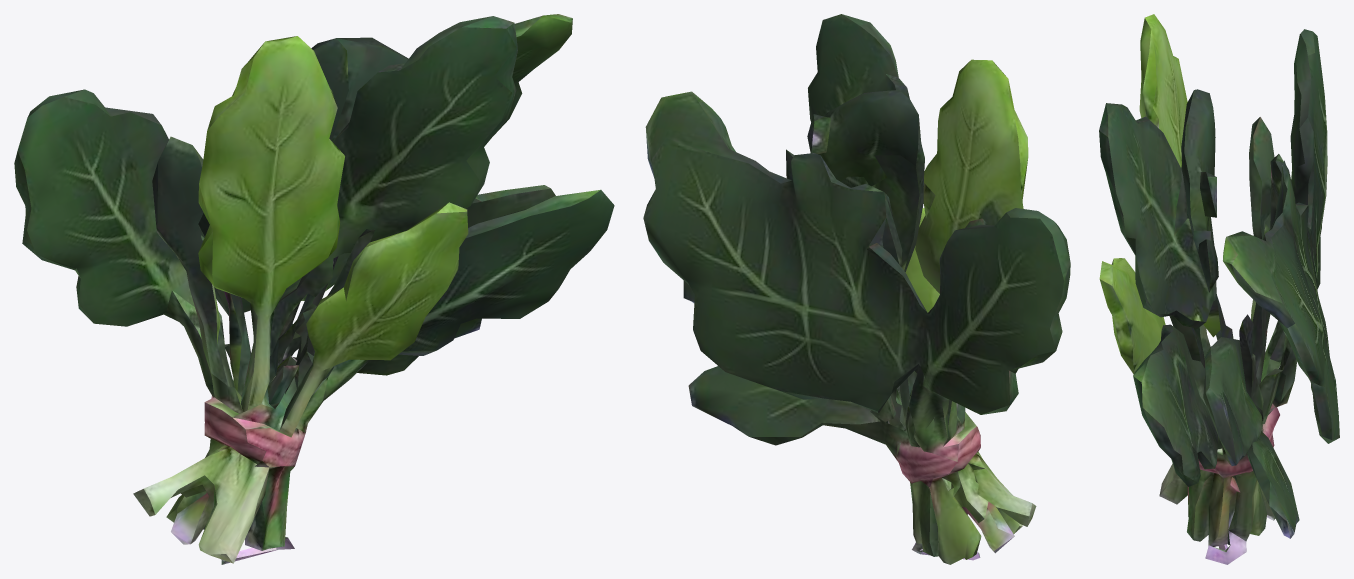
Rendered from spinach.glb.
3 views of the same model, side by side, from view 1: azimuth 30°, elevation 25°; view 2: azimuth 150°, elevation 25°; view 3: azimuth 270°, elevation 25° (orthographic). The views are drawn at different scales.
Visible parts, largest first — view 1: spinach; view 2: spinach; view 3: spinach.
Part boxes in pixels (x1=…): spinach: x1=14, y1=14, x2=614, y2=564; spinach: x1=643, y1=14, x2=1070, y2=564; spinach: x1=1099, y1=14, x2=1339, y2=564.
Size of the model in its own units: 0.9904 by 1 by 0.4143.
Materials: 1 (1 with a texture image).
